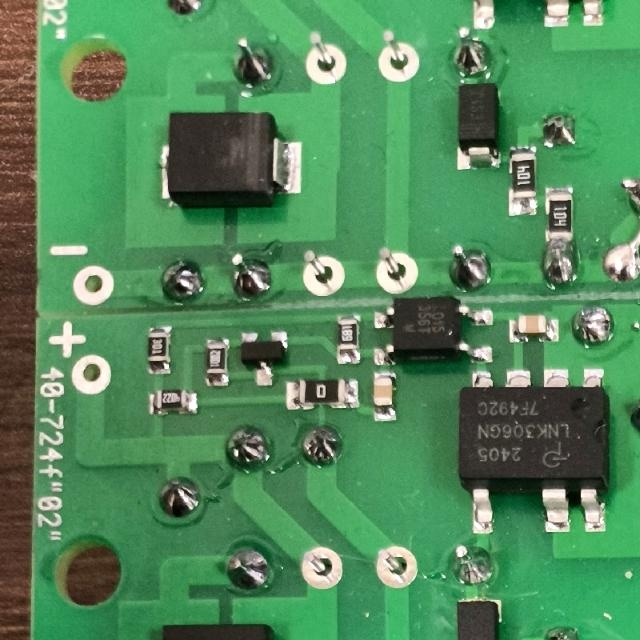chip-capacitor: (506, 315, 563, 343), (371, 370, 399, 426)
chip-resistor: (282, 376, 361, 411), (507, 145, 540, 218), (542, 183, 576, 246), (336, 311, 363, 368), (147, 387, 198, 417), (205, 334, 232, 388), (145, 324, 172, 376)
diode: (156, 109, 305, 208), (456, 81, 503, 173), (456, 594, 503, 640)
ic: (455, 363, 615, 534), (373, 298, 496, 368)
transistor: (240, 329, 291, 386)
